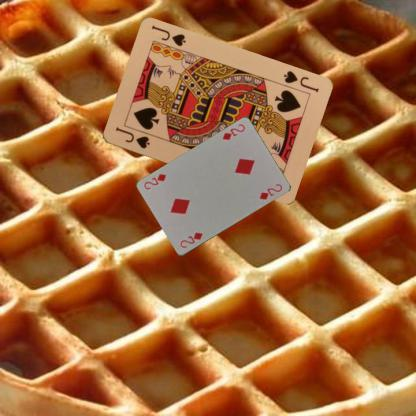2d: (220, 121, 246, 142), (177, 230, 204, 250)
Js: (280, 68, 320, 94), (113, 124, 151, 150)
